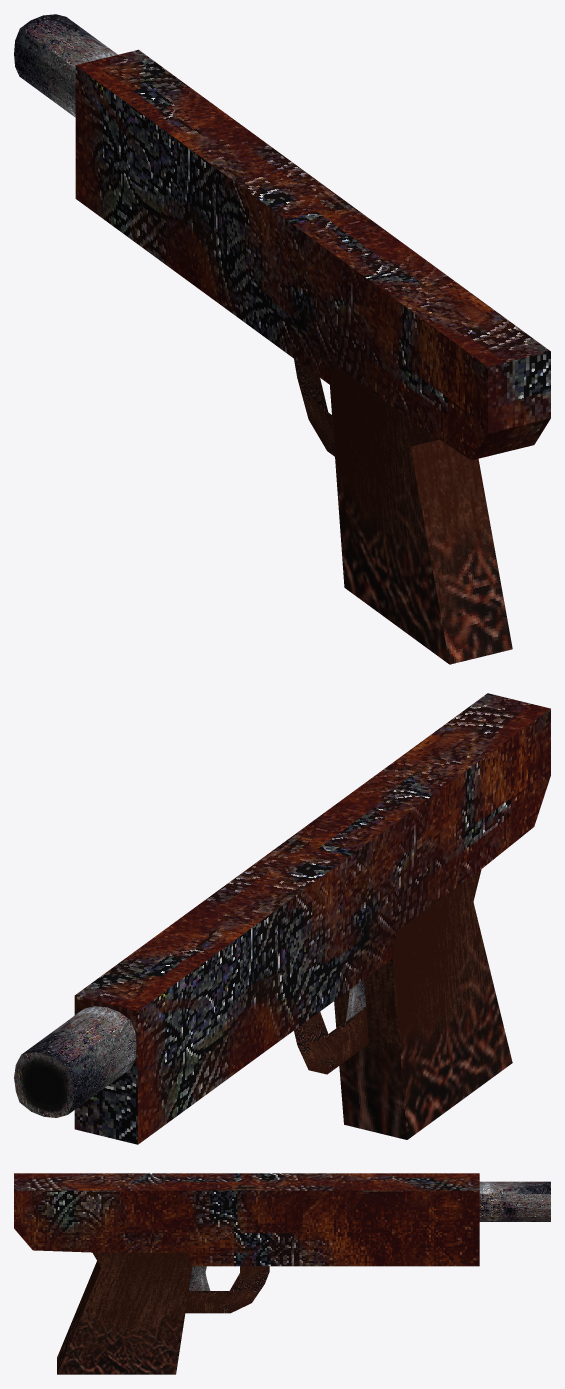
Rendered from Pistola_Gunnard.glb.
3 renders of one model, top to bottom at view 1: azimuth 30°, elevation 25°; view 2: azimuth 150°, elevation 25°; view 3: azimuth 270°, elevation 25°, orthographic. The views are drawn at different scales.
Parts seen in each view (by area): view 1: Plano.001; view 2: Plano.001; view 3: Plano.001.
Boxes of the visible parts, x1=… form: Plano.001: x1=14, y1=14, x2=550, y2=664; Plano.001: x1=14, y1=693, x2=550, y2=1144; Plano.001: x1=14, y1=1173, x2=550, y2=1374.
Size of the model in its own units: 0.9893 by 4.88 by 12.89.
Materials: 1 (1 with a texture image).
